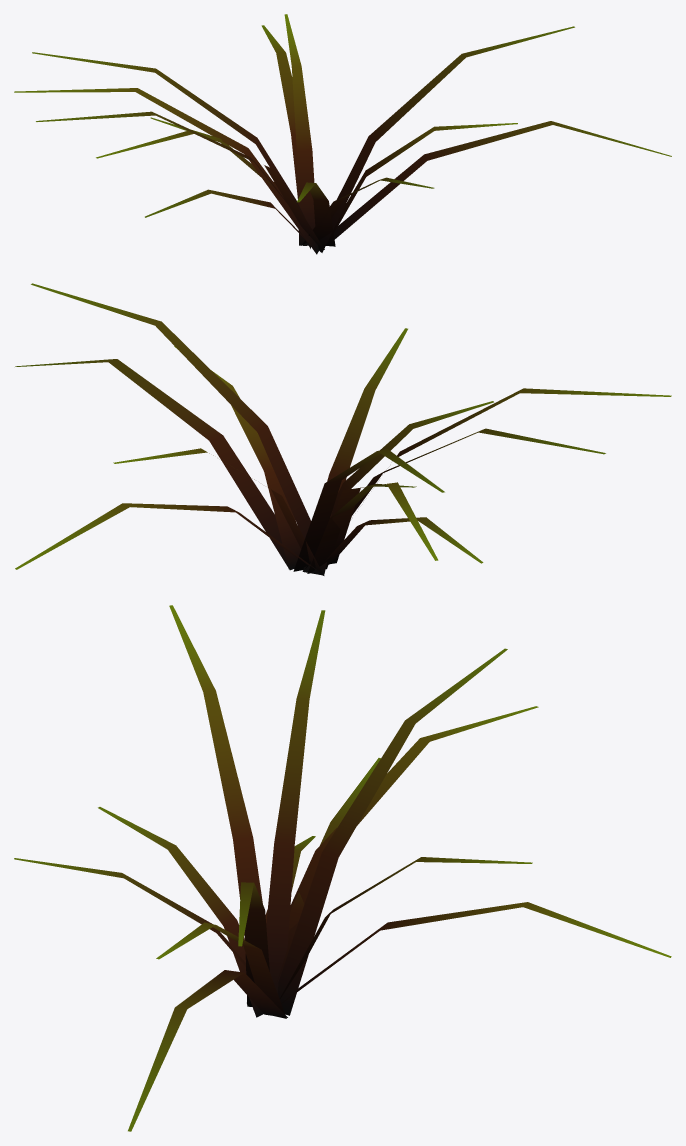
The model's file is grass_tuft_c.glb.
3 renders of one model, top to bottom at view 1: azimuth 30°, elevation 25°; view 2: azimuth 150°, elevation 25°; view 3: azimuth 270°, elevation 25°, orthographic. The views are drawn at different scales.
Parts seen in each view (by area): view 1: grass_tuft_c; view 2: grass_tuft_c; view 3: grass_tuft_c.
Part boxes in pixels (left/top/right/bottom): grass_tuft_c: left=14, top=14, right=671, bottom=254; grass_tuft_c: left=15, top=283, right=671, bottom=575; grass_tuft_c: left=14, top=605, right=671, bottom=1131.
Size of the model in its own units: 1.7 by 0.5151 by 1.3.
1 material, 1 textured.
